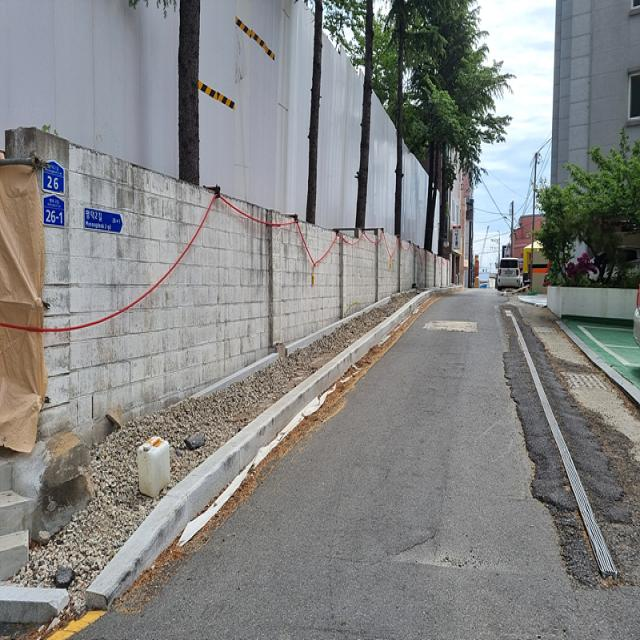asphalt: (74, 291, 639, 639)
cement: (7, 128, 450, 437), (523, 306, 602, 378), (570, 381, 639, 462), (545, 287, 636, 319)
rocks: (86, 288, 438, 609)
white-sand: (12, 293, 410, 617)
